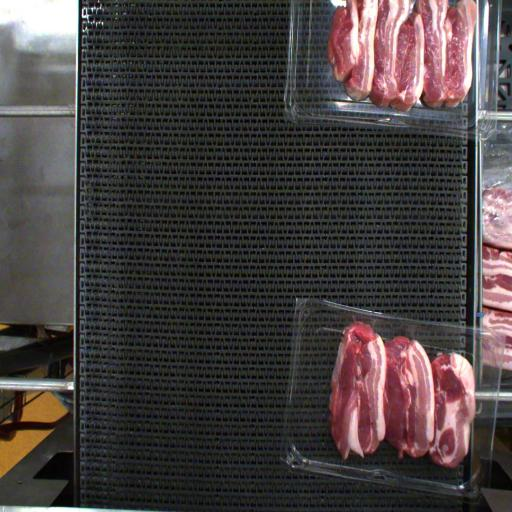packaging-error: (353, 313, 379, 329)
